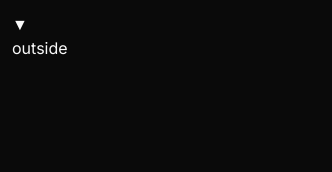
Test: DropdownMenu › opens on trigger click and renders items in a portal (document.body)
Check: the text "Edit" is not shown
Click the button named "Open menu". click: (20, 24)
box: [12,12,28,36]
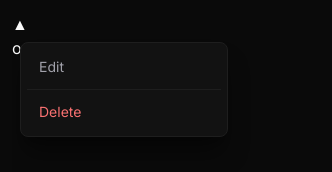
Check: the menu item "Edit" is shown, box [27,49,221,85]
